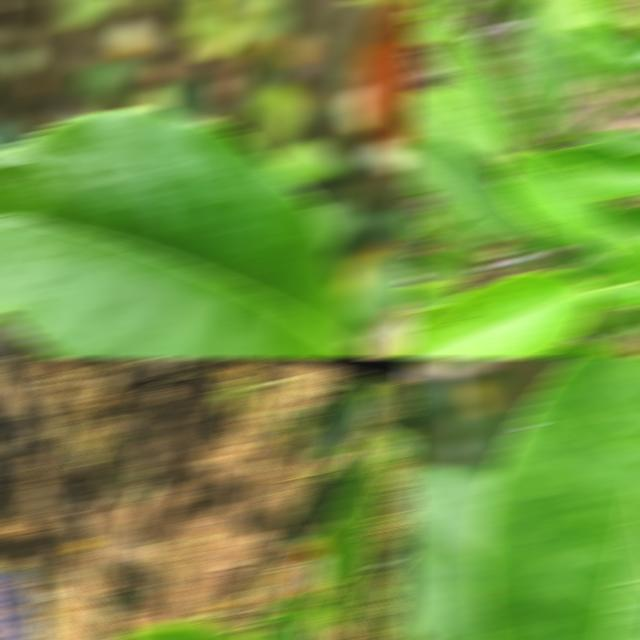Leaf: (0, 109, 359, 357), (475, 359, 640, 639), (403, 467, 497, 639), (403, 274, 594, 357), (433, 12, 526, 160), (403, 139, 539, 239), (501, 150, 617, 256), (315, 443, 389, 590), (511, 1, 584, 138), (547, 1, 636, 99), (286, 444, 369, 543), (403, 89, 501, 172), (296, 376, 382, 457), (324, 539, 376, 629), (553, 146, 640, 197), (256, 81, 303, 155), (248, 594, 324, 639), (271, 139, 343, 186), (383, 549, 415, 639), (572, 27, 640, 69), (406, 254, 479, 284), (434, 223, 488, 263), (370, 418, 415, 463), (573, 303, 630, 337), (59, 1, 123, 30), (403, 284, 467, 312), (583, 130, 640, 151), (428, 204, 466, 232), (407, 15, 440, 45), (347, 609, 376, 639), (608, 332, 640, 357), (424, 1, 455, 11)
